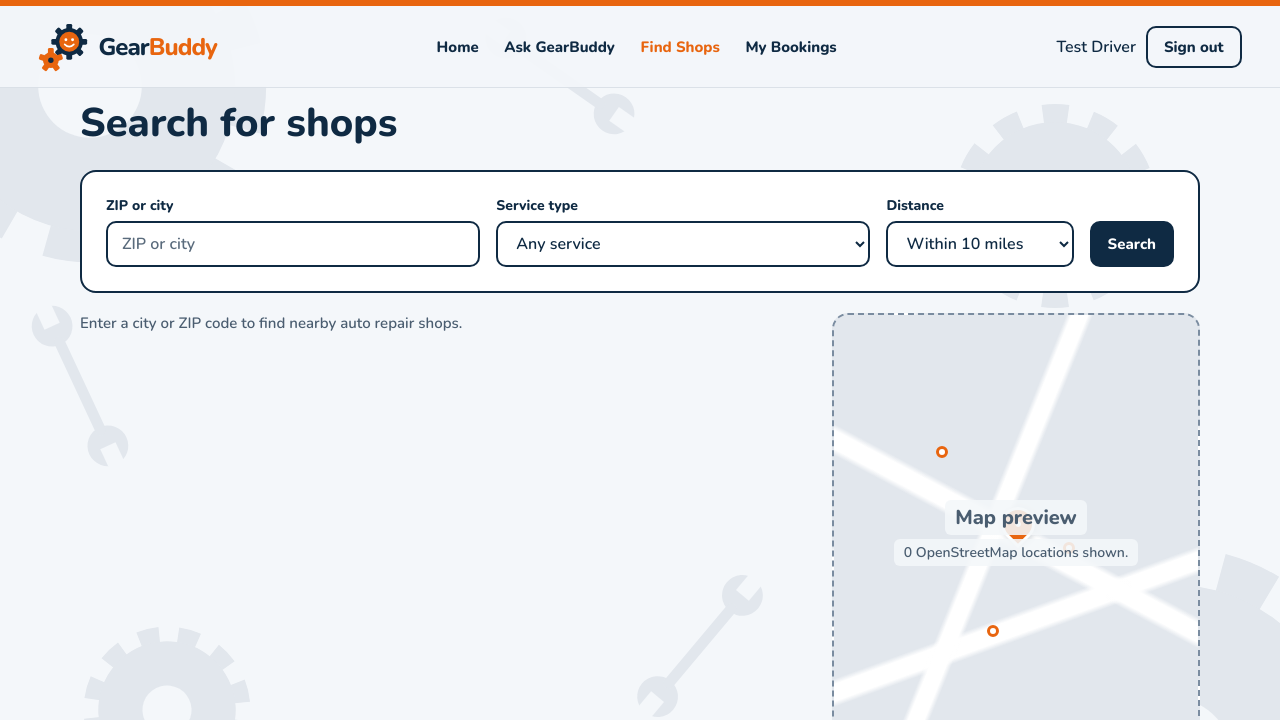
Test: GearBuddy screens › filters returned shop listings by service type
Type "80203" into the search field labelled "ZIP or city" at (293, 244), box left=106, top=221, right=480, bottom=267
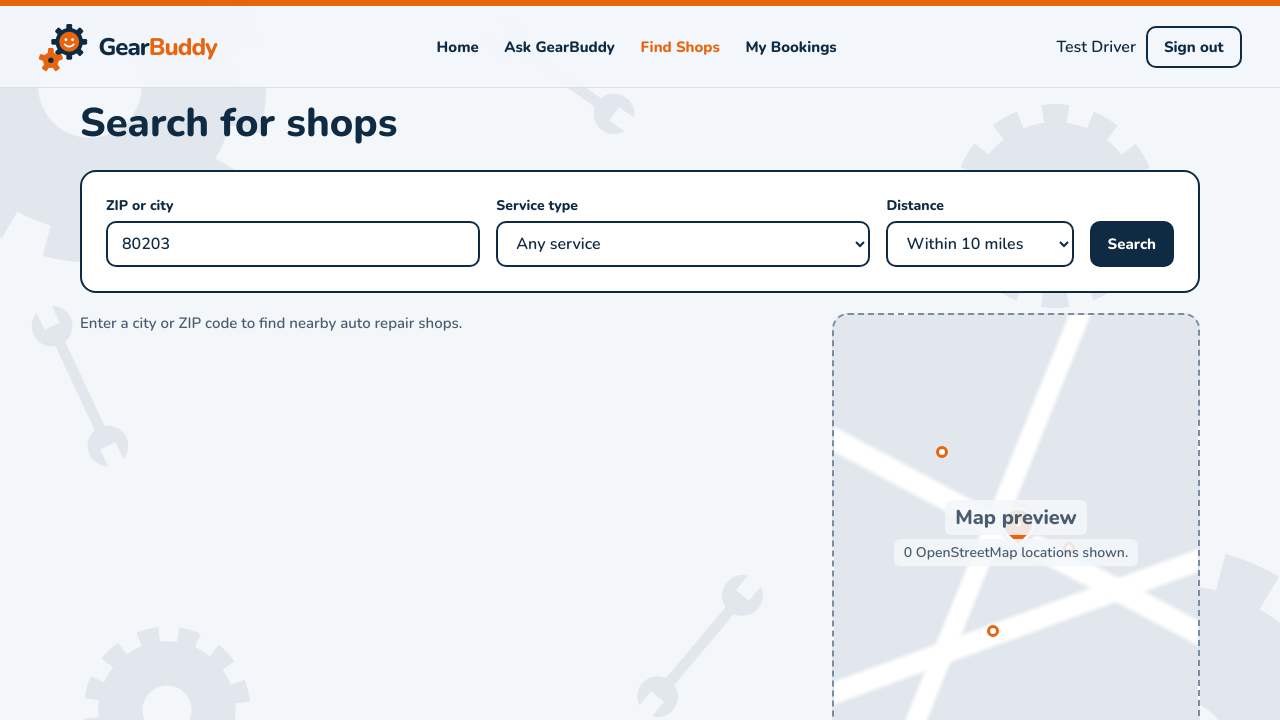
Select "Brakes" in the dropdown labelled "Service type" at (683, 244), box left=496, top=221, right=870, bottom=267
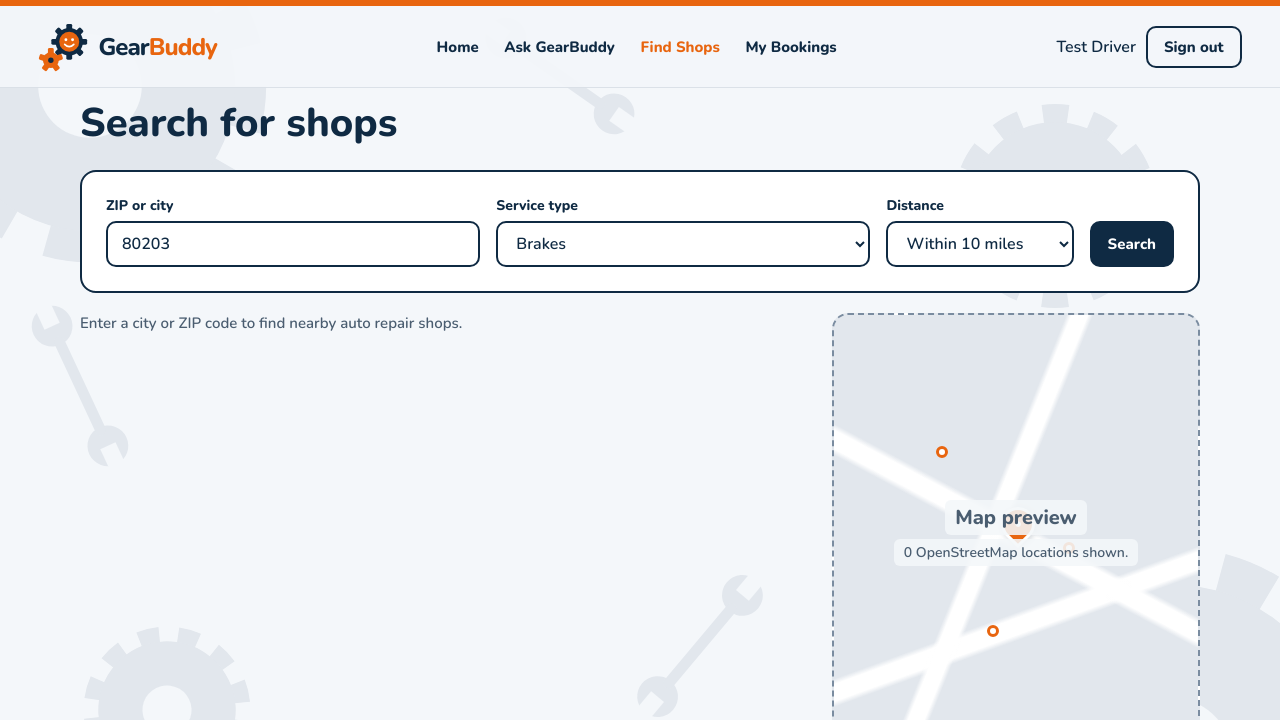
Submit the form named "Search shops", box left=80, top=170, right=1200, bottom=293
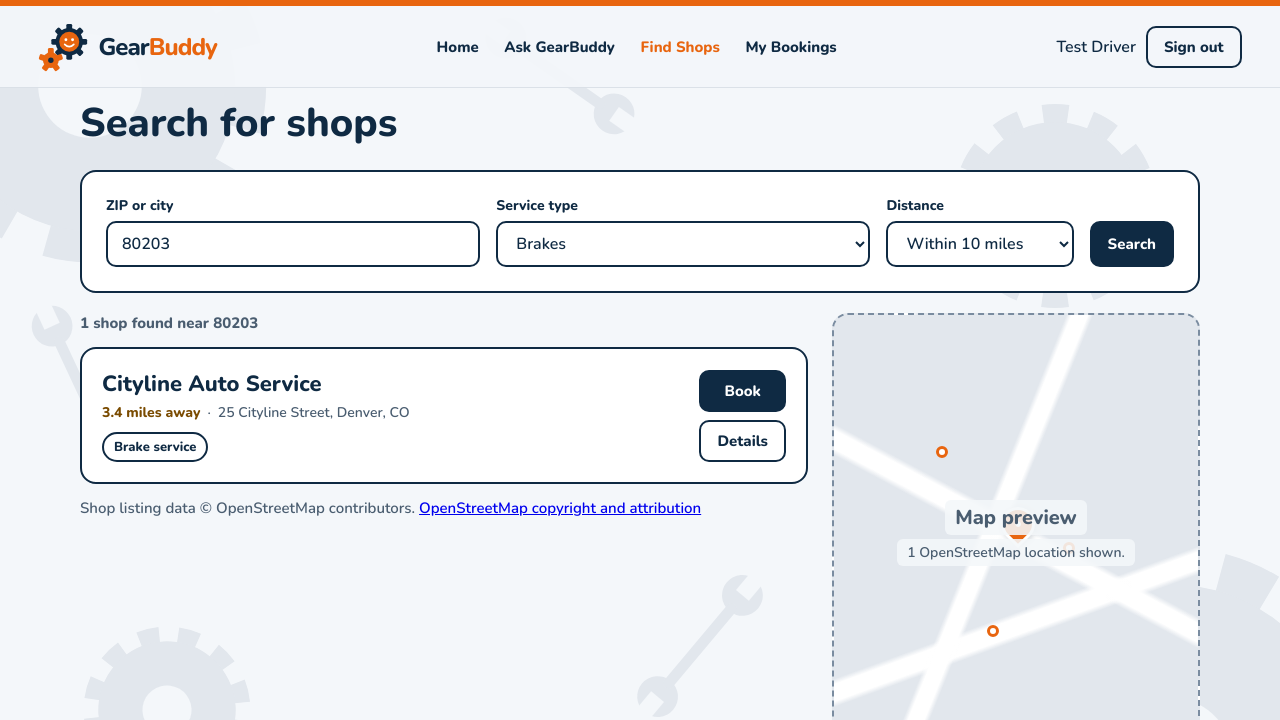
Result: the heading "Cityline Auto Service" is shown at left=102, top=369, right=322, bottom=399
Result: the text "1 shop found near 80203" is shown at left=80, top=313, right=258, bottom=333
